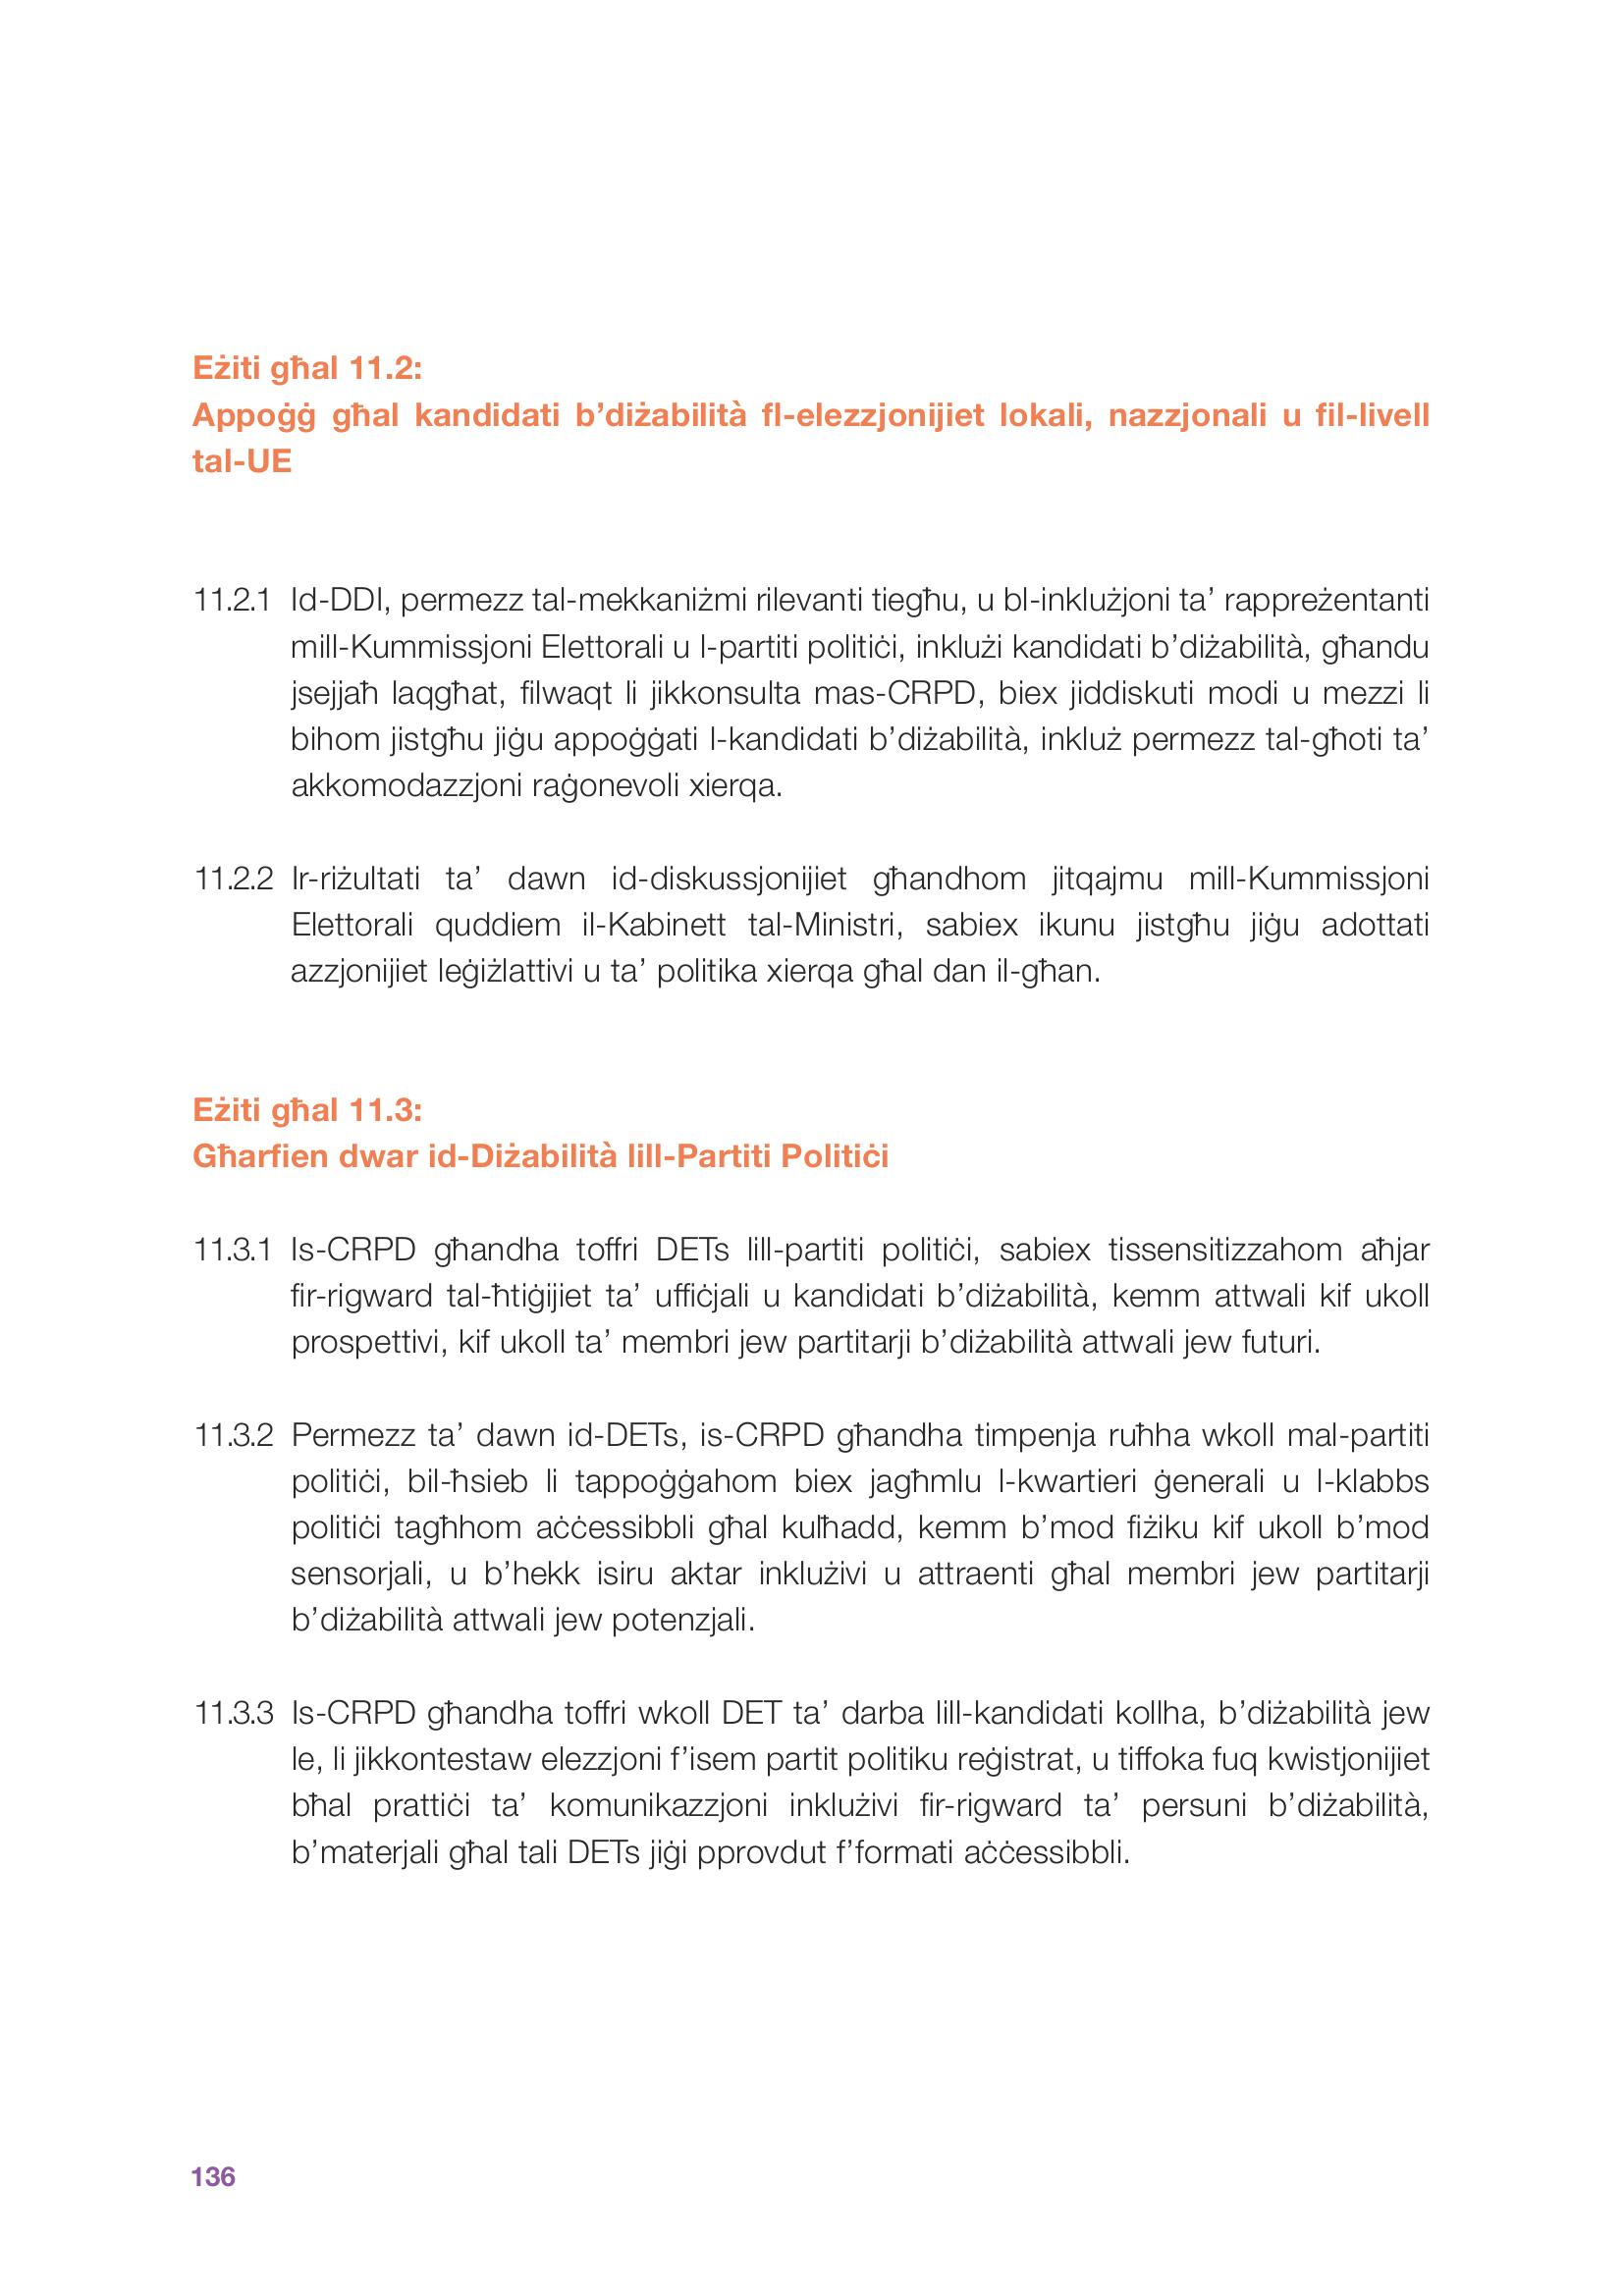text: (160, 320, 1459, 1904)
